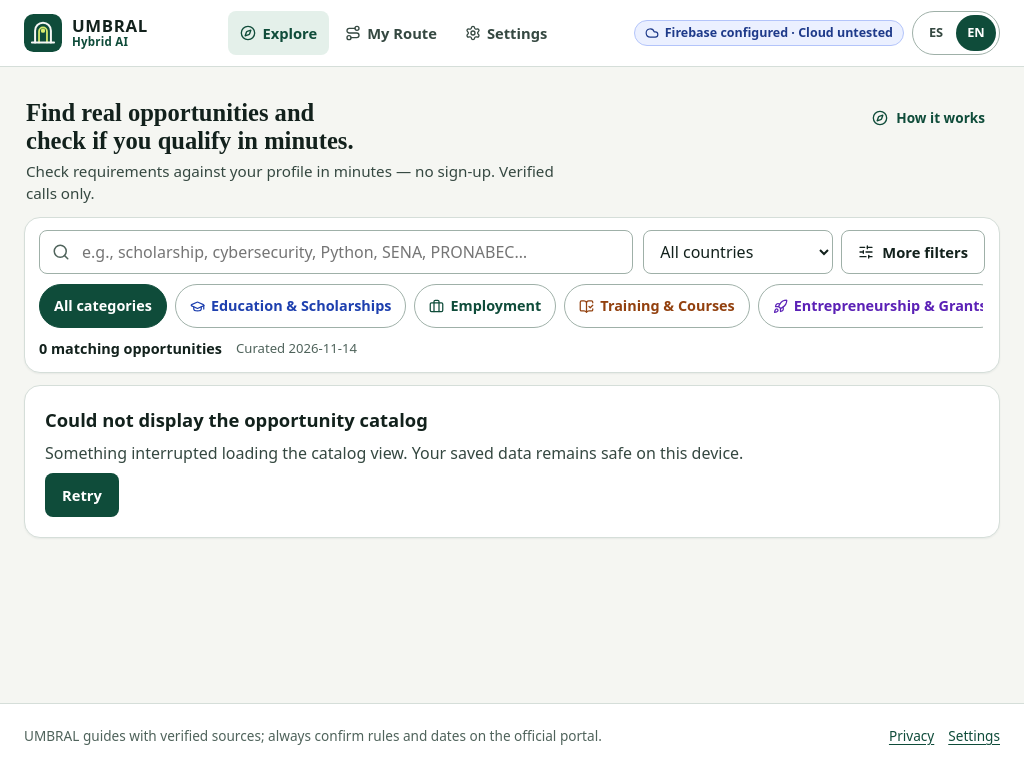
Test: UMBRAL Hybrid AI integration flows › displays catalog loadError alert and recovers when clicking Retry
Expected: the heading "Could not display the opportunity catalog" is shown, x1=45 y1=407 x2=428 y2=432
Click the button "Retry": (82, 495) x1=45 y1=473 x2=119 y2=518
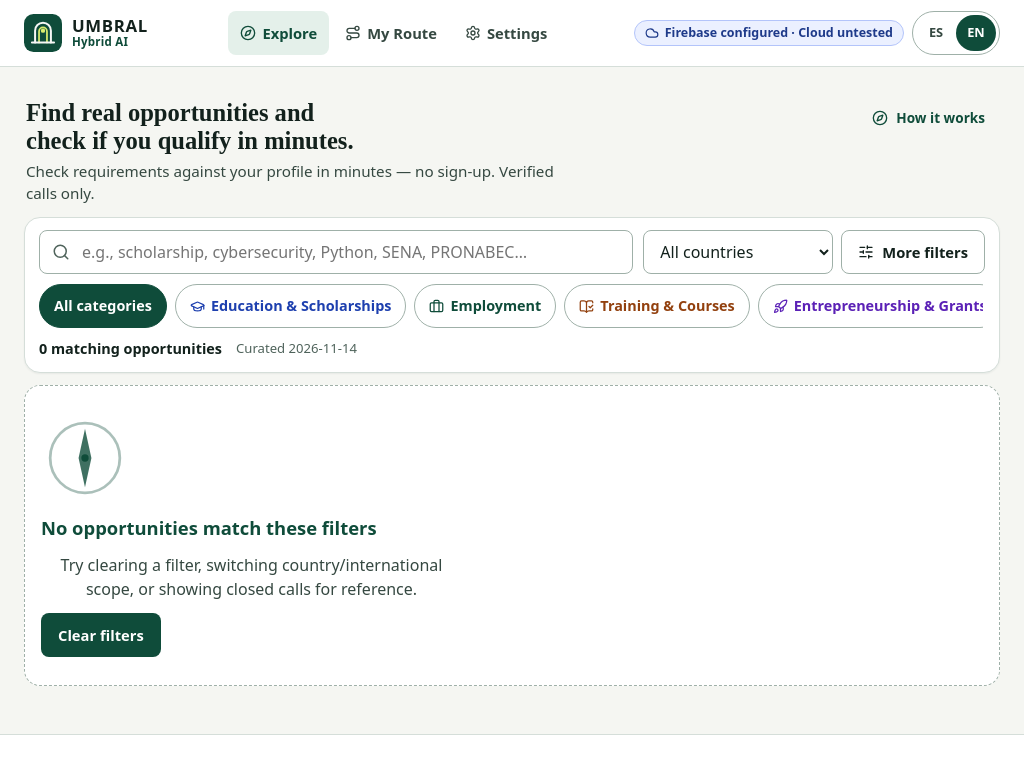
Result: the heading "Could not display the opportunity catalog" is gone
Result: the heading "No opportunities match these filters" is shown at x1=41 y1=514 x2=376 y2=541
